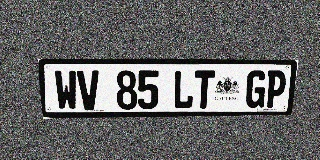5: (138, 70, 159, 109)
8: (116, 70, 137, 109)
G: (245, 70, 267, 108)
L: (173, 70, 194, 109)
P: (264, 70, 287, 108)
T: (194, 70, 215, 109)
V: (77, 70, 100, 110)
W: (54, 70, 78, 110)
